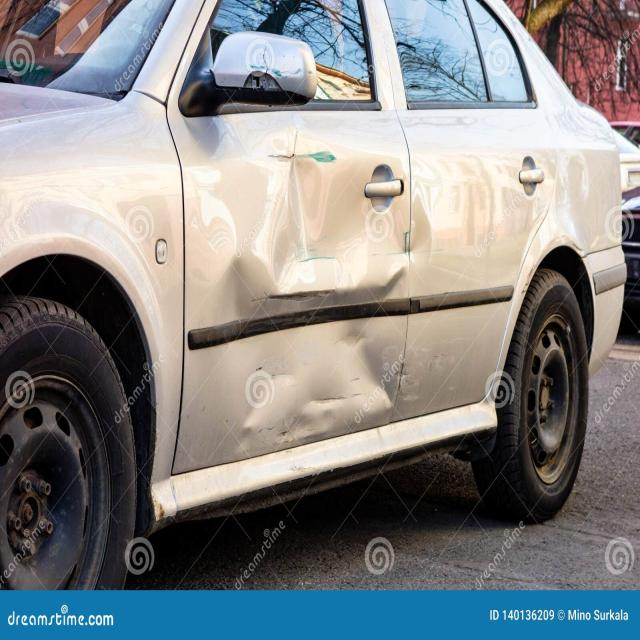crush: (152, 48, 457, 519)
